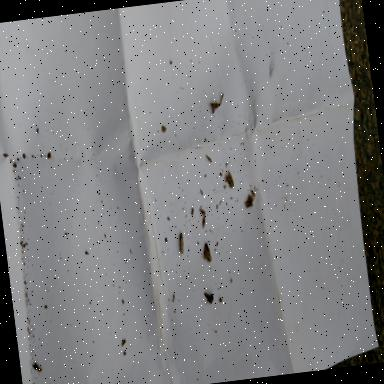pbw: (224, 169, 234, 188), (176, 232, 184, 255), (204, 242, 212, 262), (244, 194, 254, 207), (200, 214, 206, 228), (198, 207, 206, 216), (204, 154, 212, 162)
